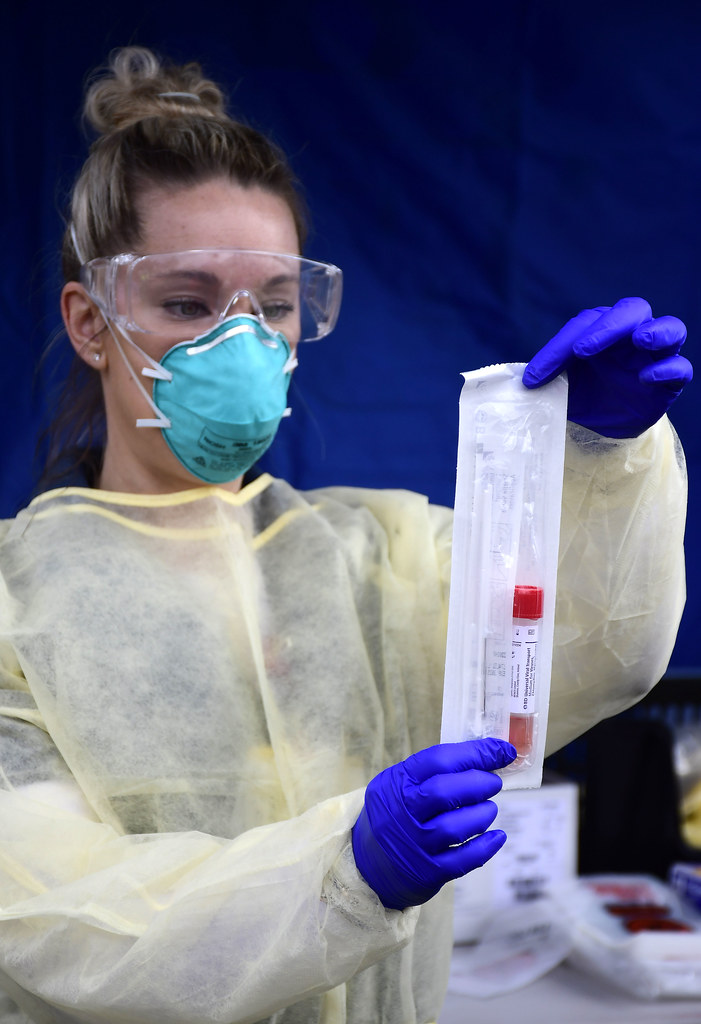n95: (130, 310, 299, 493)
